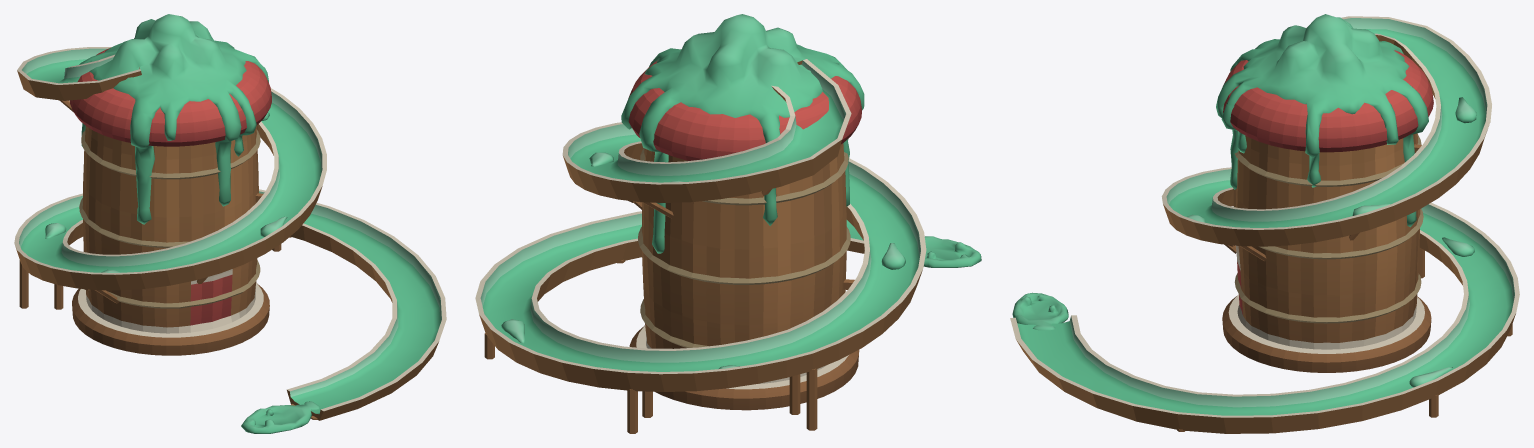
The model's file is slime_fountain.fbx.
3 renders of one model, left to right at view 1: azimuth 30°, elevation 25°; view 2: azimuth 150°, elevation 25°; view 3: azimuth 270°, elevation 25°, orthographic. The views are drawn at different scales.
Visible parts, largest first — view 1: slime_fountain; view 2: slime_fountain; view 3: slime_fountain.
Boxes of the visible parts, x1,y1,x2,y2 form: slime_fountain: (14, 14, 446, 433); slime_fountain: (475, 14, 981, 433); slime_fountain: (1010, 14, 1519, 433).
Size of the model in its own units: 54.45 by 43.32 by 63.85.
